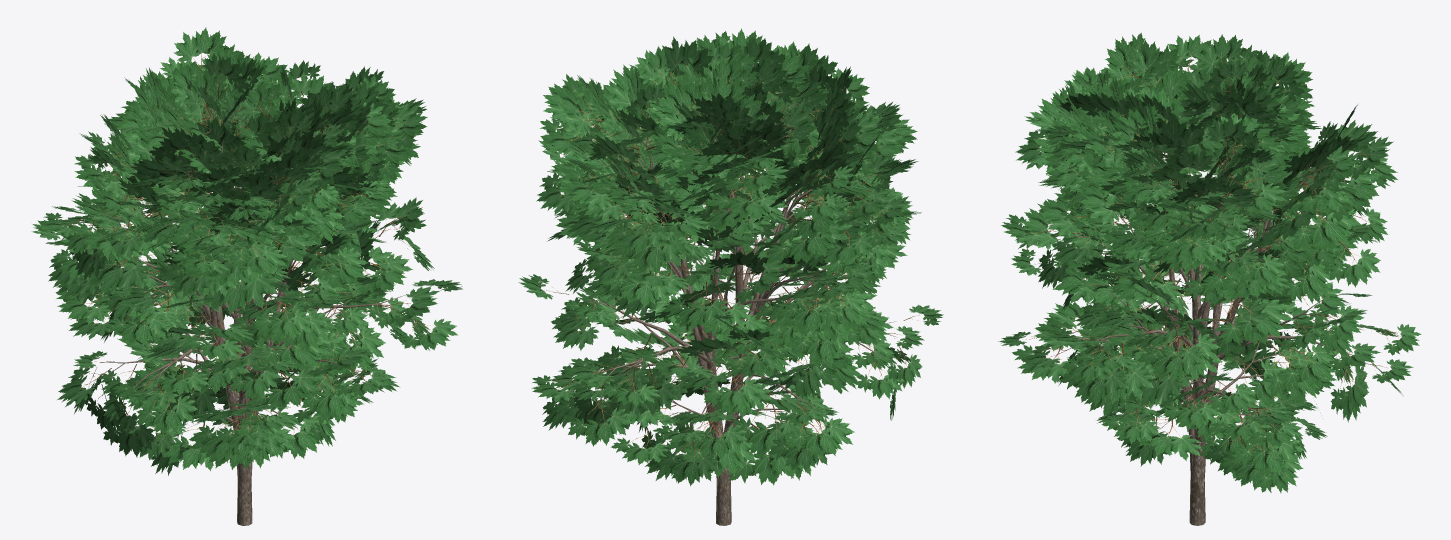
Rendered from Maple.fbx.
3 views of the same model, side by side, from view 1: azimuth 30°, elevation 25°; view 2: azimuth 150°, elevation 25°; view 3: azimuth 270°, elevation 25° (orthographic).
Parts seen in each view (by area): view 1: leaves, Maple; view 2: leaves, Maple; view 3: leaves, Maple.
Part boxes in pixels (x1,y1,x2,y2): leaves: (31, 27, 462, 475); Maple: (100, 105, 406, 525); leaves: (518, 28, 943, 486); Maple: (588, 109, 897, 525); leaves: (998, 32, 1421, 493); Maple: (1060, 148, 1372, 525).
Bounding box in the file's own units: 936 × 1088 × 938.
Materials: 2 (2 with a texture image).
